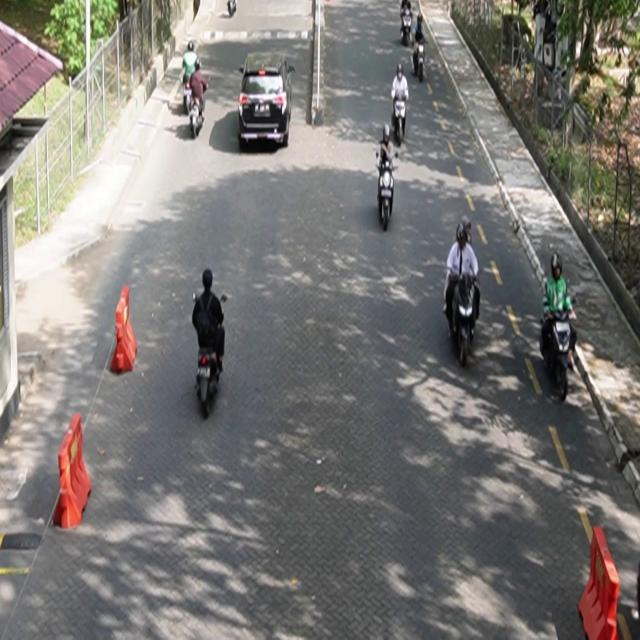car: (238, 51, 296, 150)
